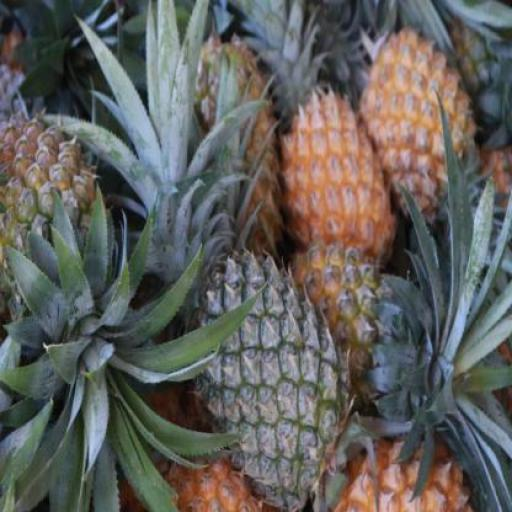------------------------------: (0, 114, 110, 338)
Pineapple - v8 v1: (365, 32, 478, 239), (281, 90, 396, 271)
